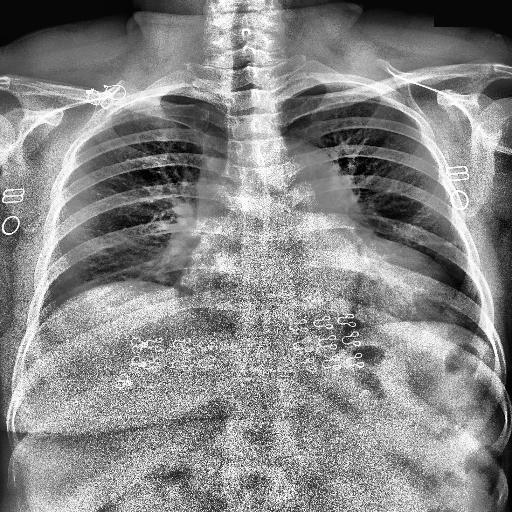0- Aortic enlargement: (232, 138, 360, 230), (251, 138, 357, 214), (268, 136, 358, 210)
13- Pulmonary fibrosis: (415, 236, 465, 248), (415, 237, 455, 247)
3- Cardiomegaly: (181, 229, 462, 324), (170, 254, 455, 337), (176, 256, 460, 312)
